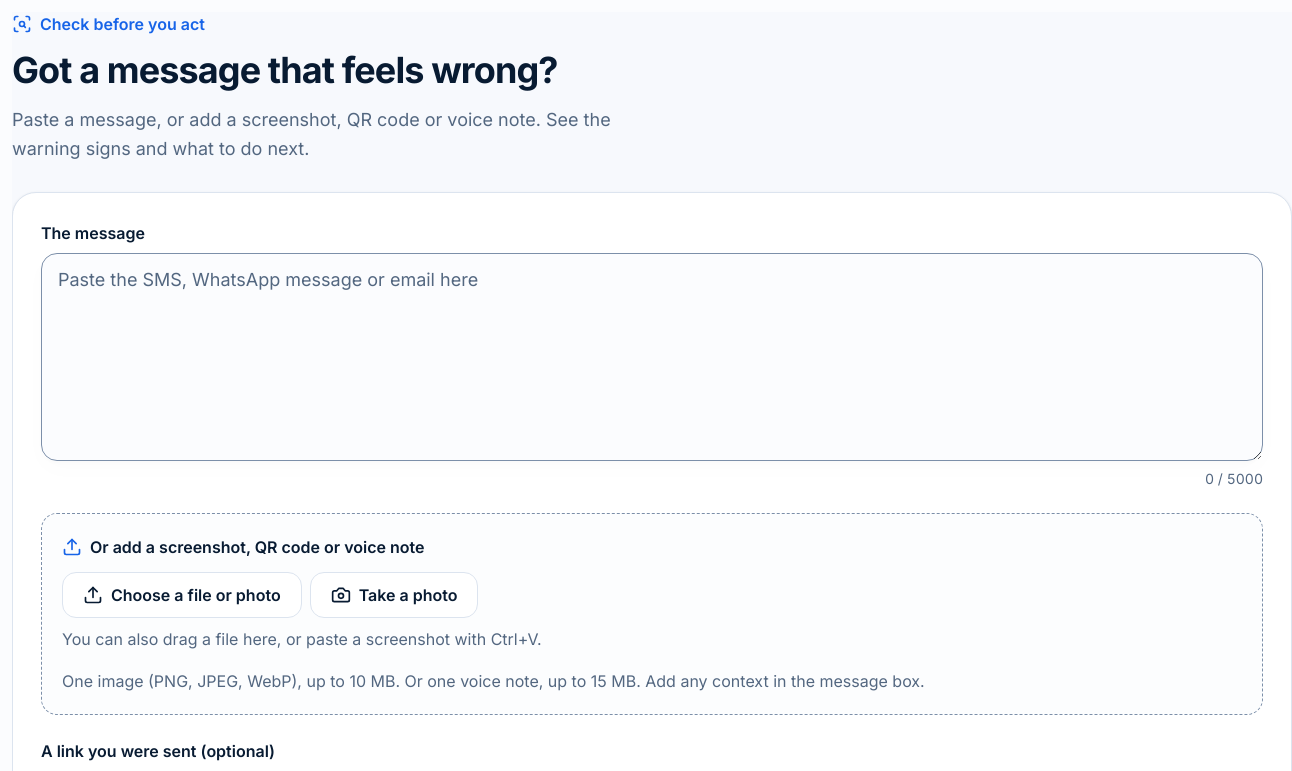
Test case: CheckPage › hints 'not enough to judge' for too-thin text but still lets the person check
Expected: the text "Not enough to judge yet" is not shown
Type "asdkjh qwe 123 !!! ???" into the text box labelled "The message" at (652, 356), box [41,252,1263,460]
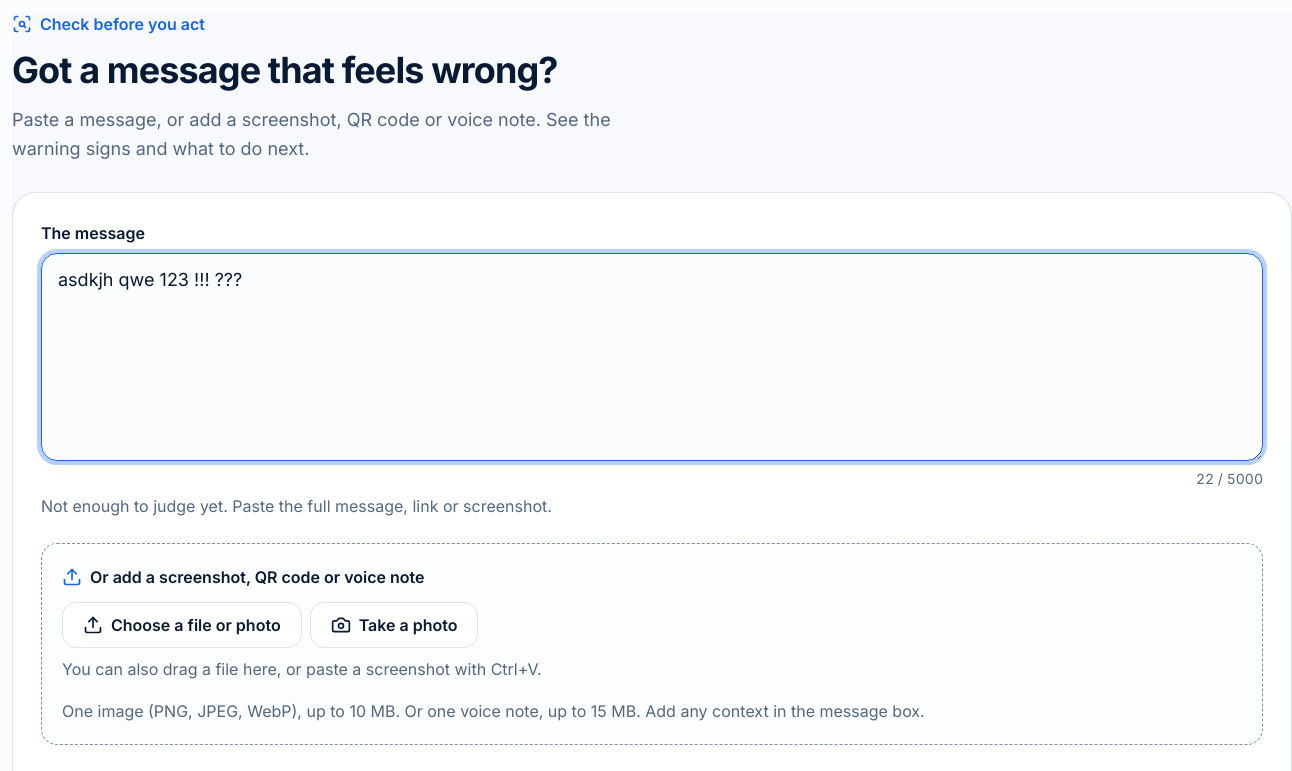
// A link makes it judgeable, so does a longer message.
Type " http://bit.ly/x" into the text box labelled "The message" at (652, 356), box [41,252,1263,460]
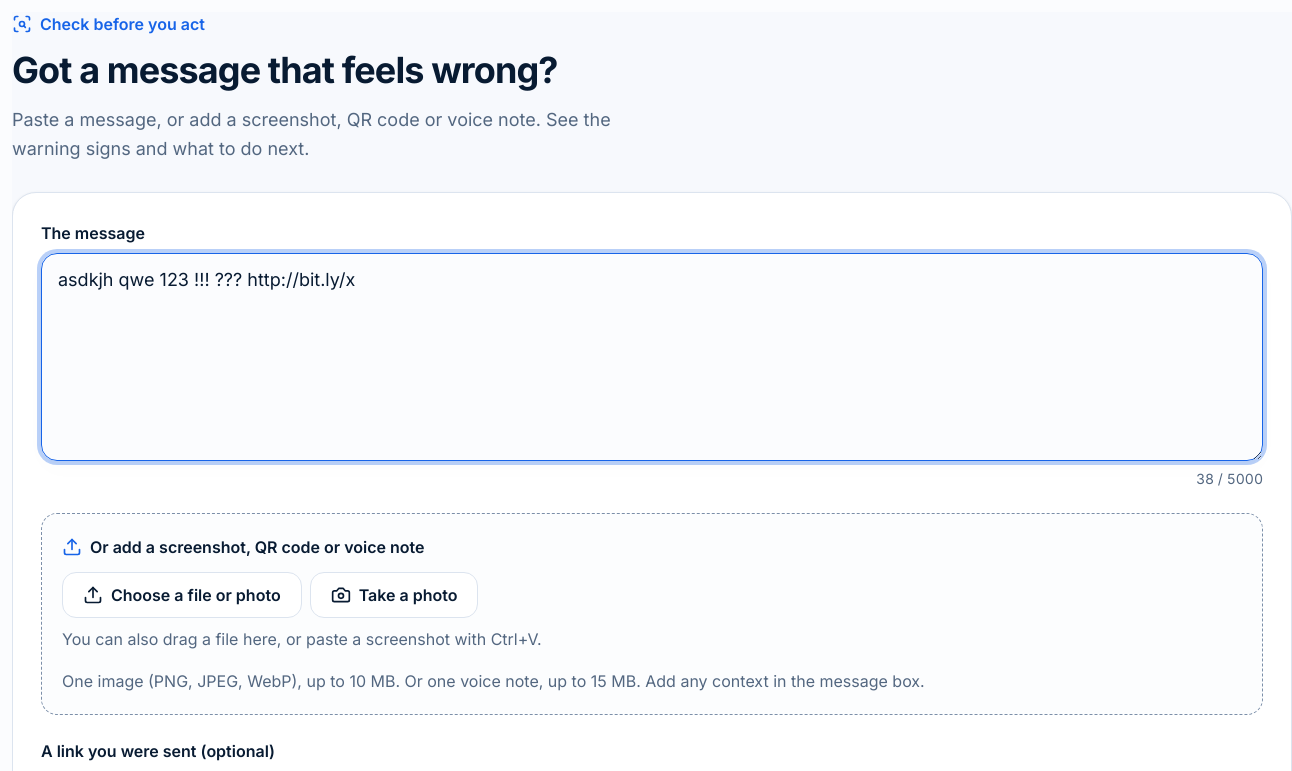
Result: the text "Not enough to judge yet" is gone
